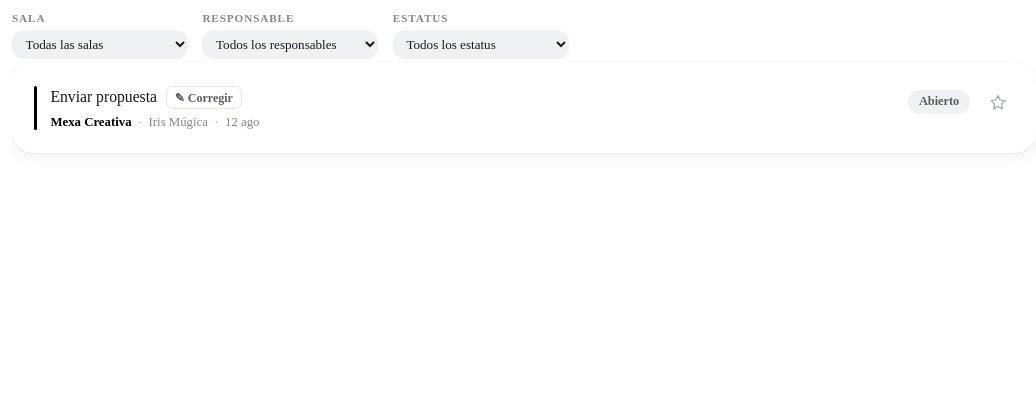
Scenario: TablaAcuerdos › editar y eliminar desde la pestaña › decir que no deja el acuerdo como estaba
Click the button "✎ Corregir".
click(204, 98)  # box [166, 86, 242, 109]
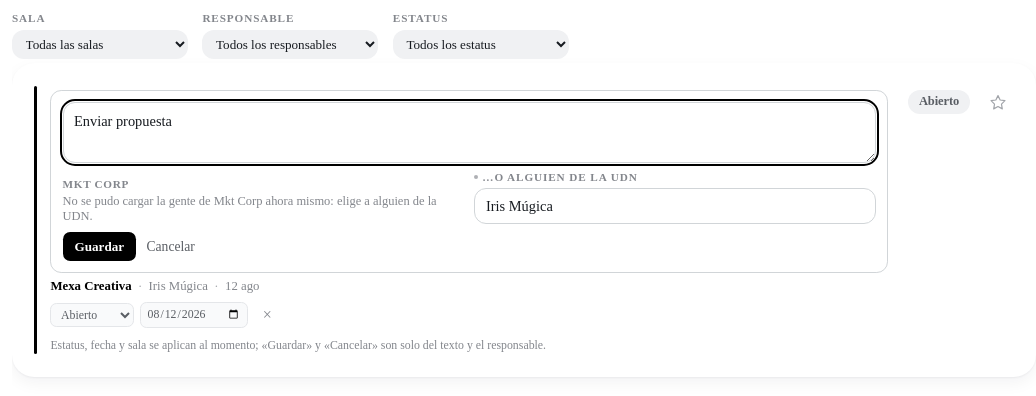
Click the button named "eliminar".
click(267, 315)  # box [254, 302, 280, 328]
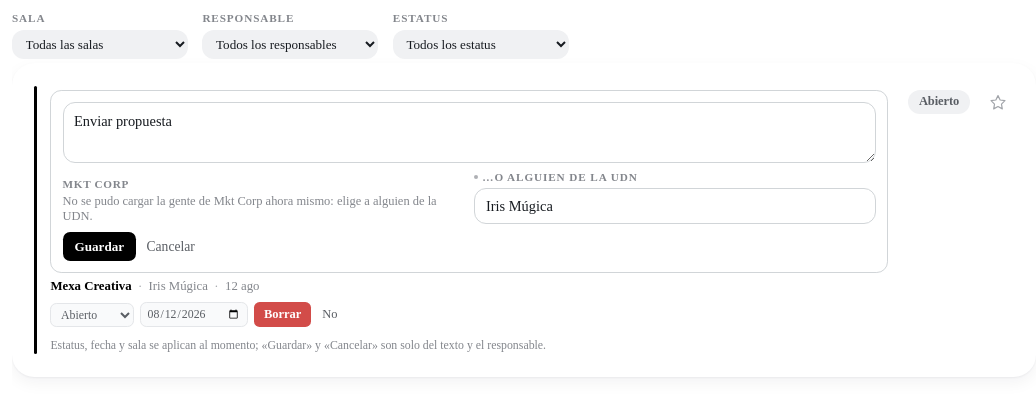
Click the button "No".
click(330, 315)  # box [316, 302, 344, 327]
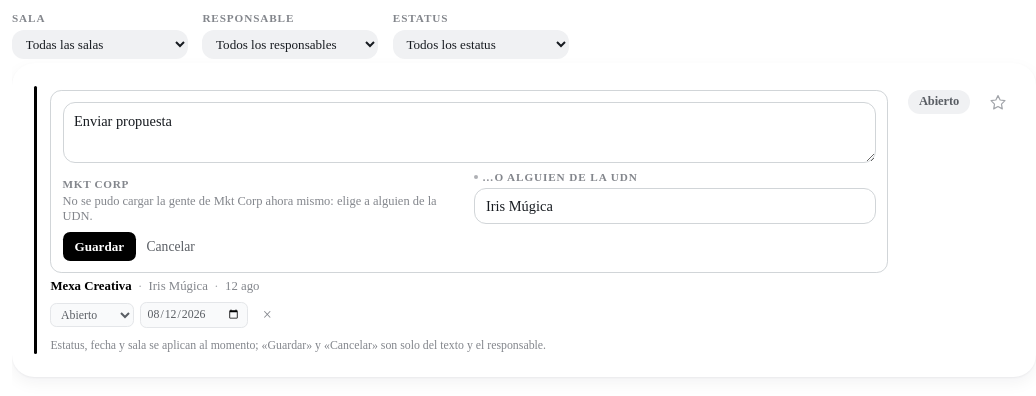
Result: the button named "eliminar" is shown at [254, 302, 280, 328]
